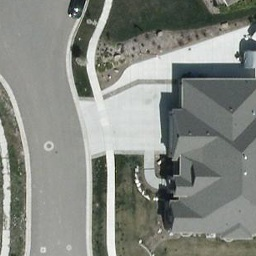car: (68, 1, 90, 18)
